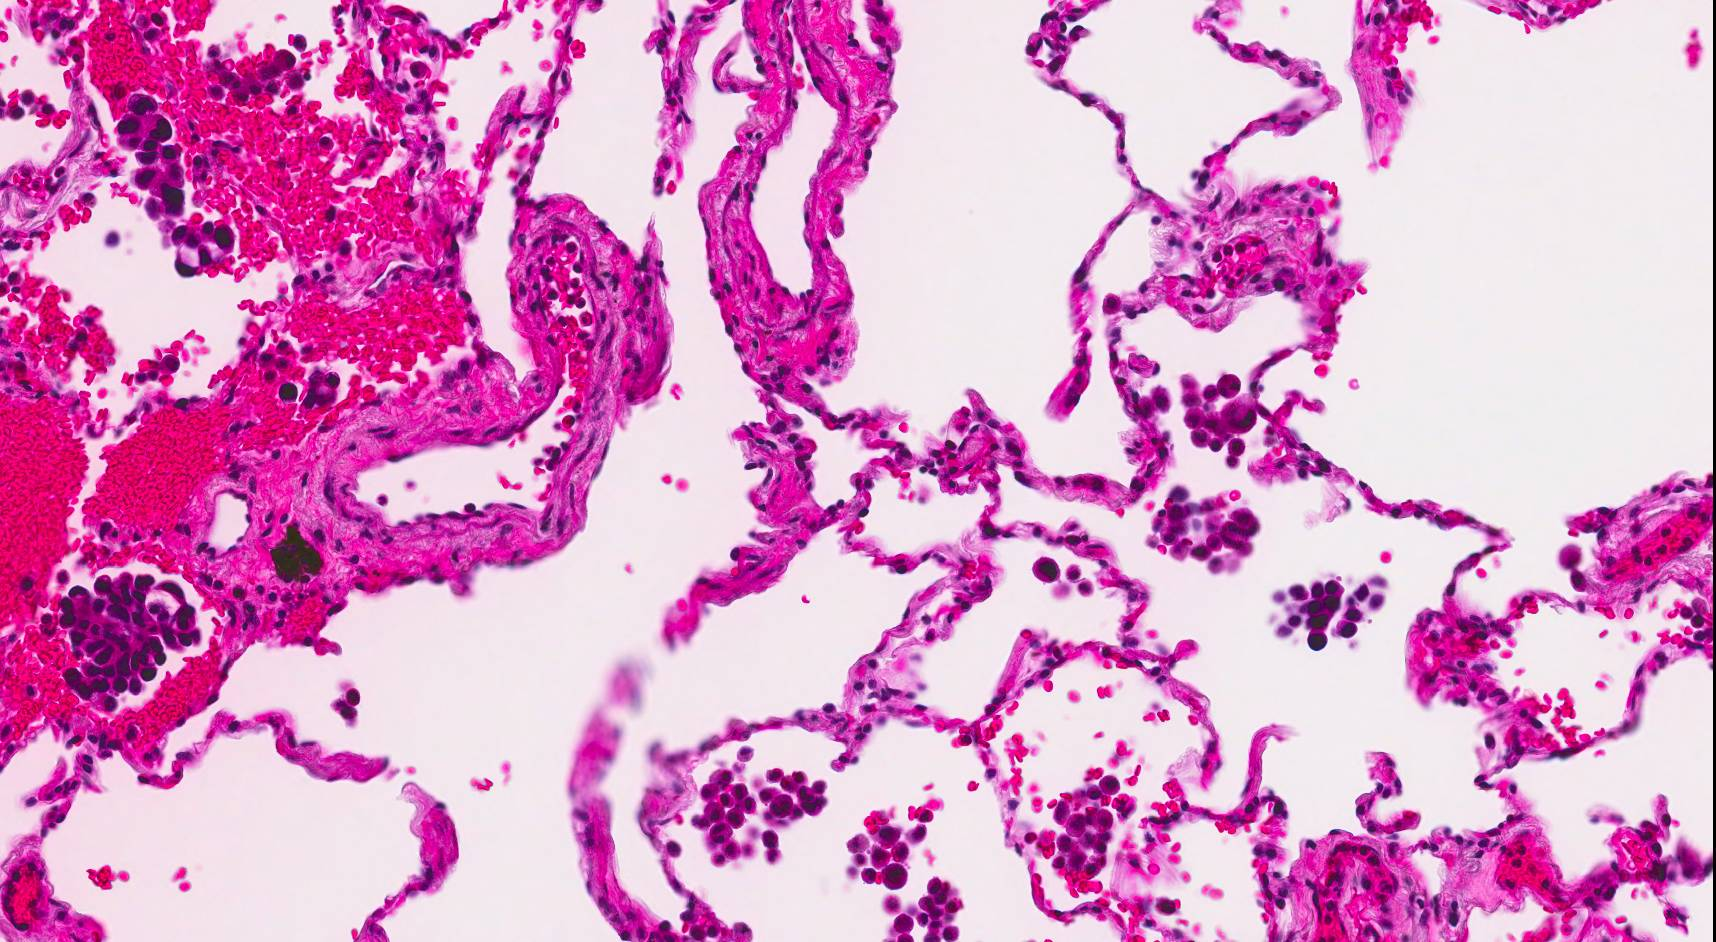stas: (58, 574, 202, 712), (1271, 571, 1387, 657), (116, 94, 188, 217), (171, 223, 240, 281)
